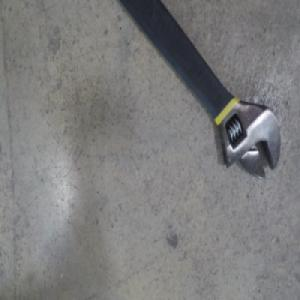AdjustableWrench: (120, 0, 282, 184)
